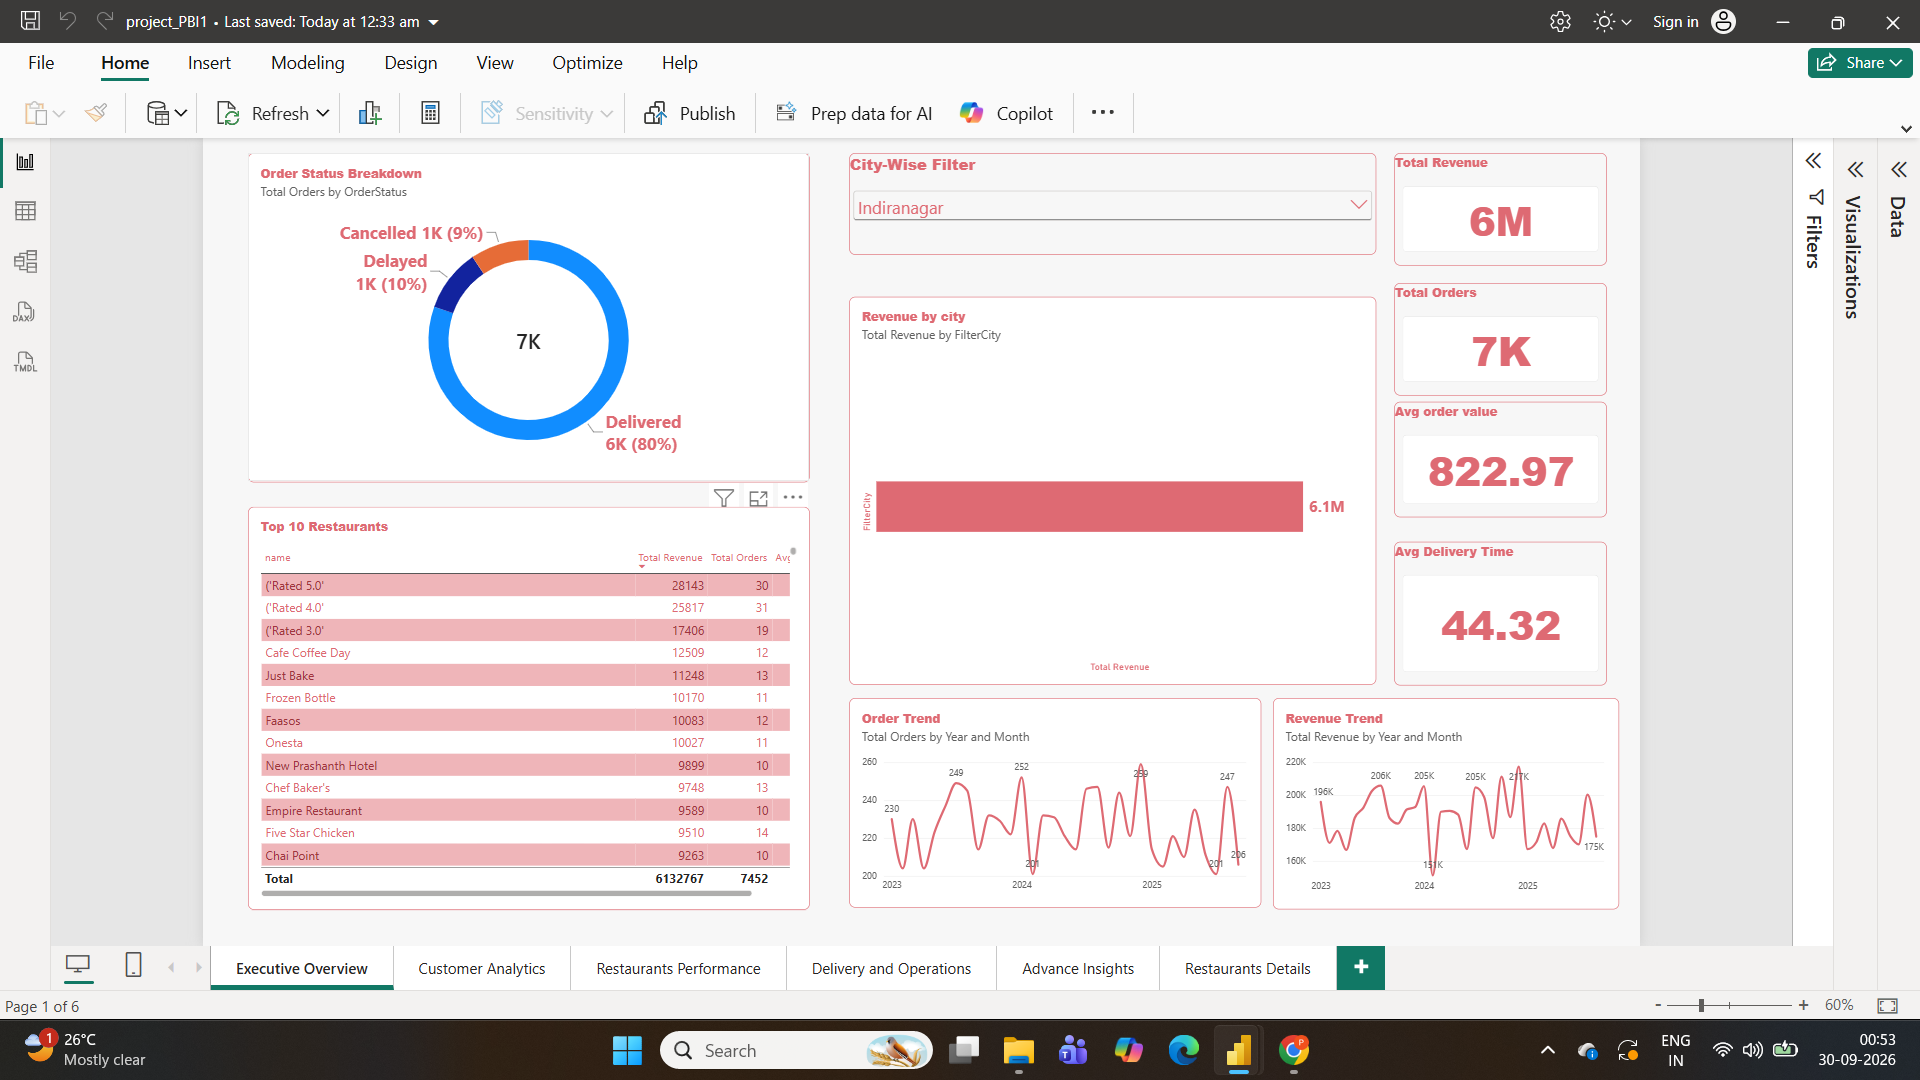

Layout of this report page (visuals, bound fields, positions):
{"tool":"powerbi","page":{"name":"Executive Overview","canvas":[1920,1080],"ordinal":0},"visuals":[{"type":"cardVisual","title":"Total Revenue","fields":{"Data":["Orders.Total Revenue"]},"box":[1592,20,284,150],"z":0},{"type":"cardVisual","title":"Total Orders","fields":{"Data":["Orders.Total Orders"]},"box":[1592,194,284,150],"z":1000},{"type":"cardVisual","title":"Avg order value","fields":{"Data":["Orders.Avg Order Value"]},"box":[1592,352,284,154],"z":2000},{"type":"cardVisual","title":"Avg Delivery Time","fields":{"Data":["Orders.Avg Delivery Time"]},"box":[1592,540,284,192],"z":3000},{"type":"lineChart","title":"Revenue Trend","fields":{"Category":["DateTable.Date.Variation.Date Hierarchy.Year","DateTable.Date.Variation.Date Hierarchy.Month"],"Y":["Orders.Total Revenue"]},"box":[1430,748,462,282],"z":4000},{"type":"lineChart","title":"Order Trend","fields":{"Category":["DateTable.Date.Variation.Date Hierarchy.Year","DateTable.Date.Variation.Date Hierarchy.Month"],"Y":["Orders.Total Orders"]},"box":[864,748,550,280],"z":5000},{"type":"barChart","title":"Revenue by city","fields":{"Category":["Customers.FilterCity"],"Y":["Orders.Total Revenue"]},"box":[864,212,704,518],"z":6000},{"type":"donutChart","title":"Order Status Breakdown","fields":{"Category":["Orders.OrderStatus"],"Y":["Orders.Total Orders"]},"box":[60,20,750,440],"z":7000},{"type":"tableEx","title":"Top 10 Restaurants","fields":{"Values":["Restaurants.name","Orders.Total Revenue","Orders.Total Orders","Orders.Avg Rating"]},"box":[60,492,750,538],"z":8000},{"type":"slicer","title":"City-Wise Filter","fields":{"Values":["Customers.FilterCity"]},"box":[864,20,704,136],"z":8002}]}

Visuals, with their boxes on the page's 1920x1080 design canvas (x1, y1, x2, y2). These are canvas units, not pixel positions in the 1920x1080 screenshot, which may show the page scaled, cropped or inside an application window:
"Total Revenue" cardVisual: 1592, 20, 1876, 170
"Total Orders" cardVisual: 1592, 194, 1876, 344
"Avg order value" cardVisual: 1592, 352, 1876, 506
"Avg Delivery Time" cardVisual: 1592, 540, 1876, 732
"Revenue Trend" lineChart: 1430, 748, 1892, 1030
"Order Trend" lineChart: 864, 748, 1414, 1028
"Revenue by city" barChart: 864, 212, 1568, 730
"Order Status Breakdown" donutChart: 60, 20, 810, 460
"Top 10 Restaurants" tableEx: 60, 492, 810, 1030
"City-Wise Filter" slicer: 864, 20, 1568, 156
